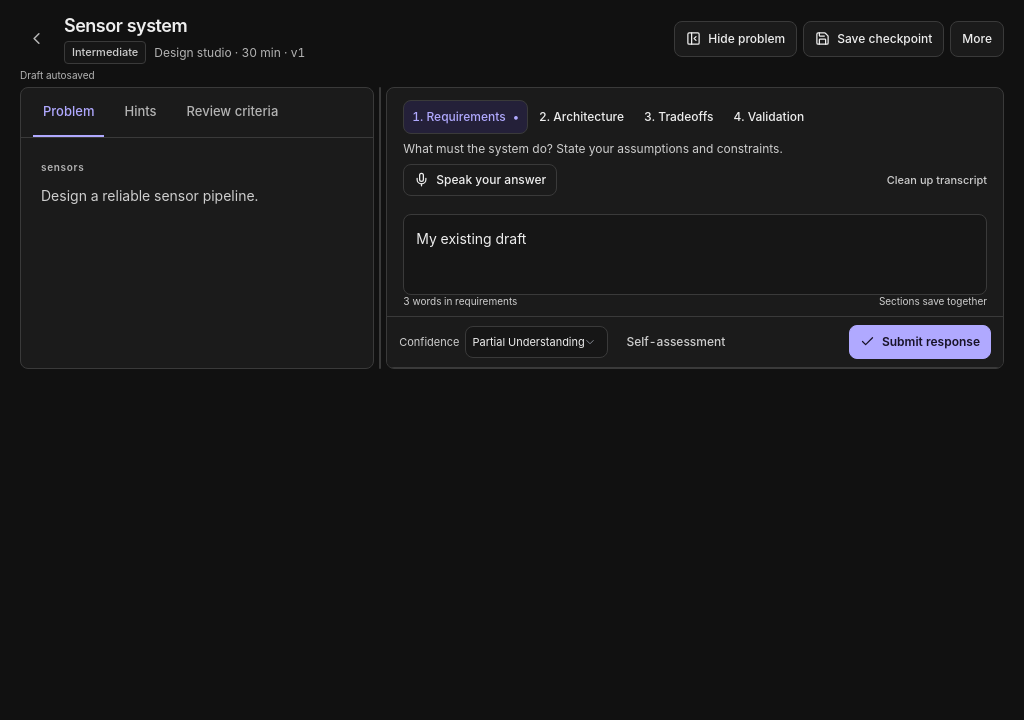
identifies OpenRouter coaching and its data flow before asking
Step 1. Click the tab "Hints" → (141, 113), box [114, 88, 167, 137]
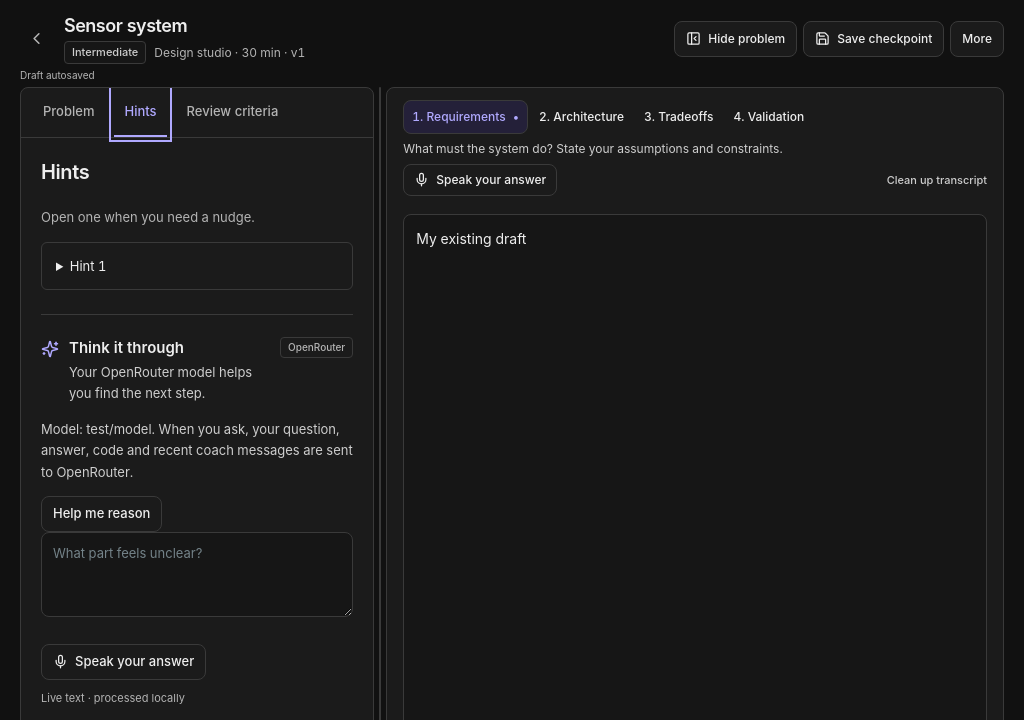
Check: the text "OpenRouter" is shown, box [280, 337, 353, 358]
Check: the text "Model: test/model." is shown, box [41, 421, 159, 437]
Check: the text "answer, code and recent coach messages are sent to OpenRouter" is shown, box [41, 421, 353, 480]
Step 2. Click the button "Help me reason" → (102, 514), box [41, 496, 162, 532]
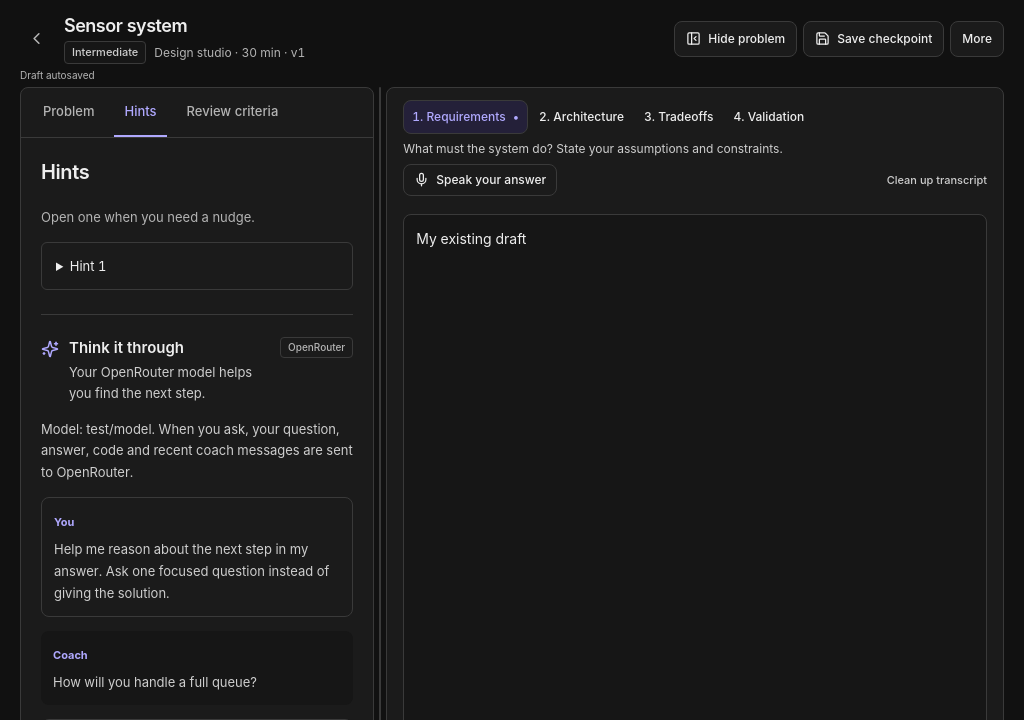
Check: the text "How will you handle a full queue?" is shown, box [53, 674, 257, 690]
